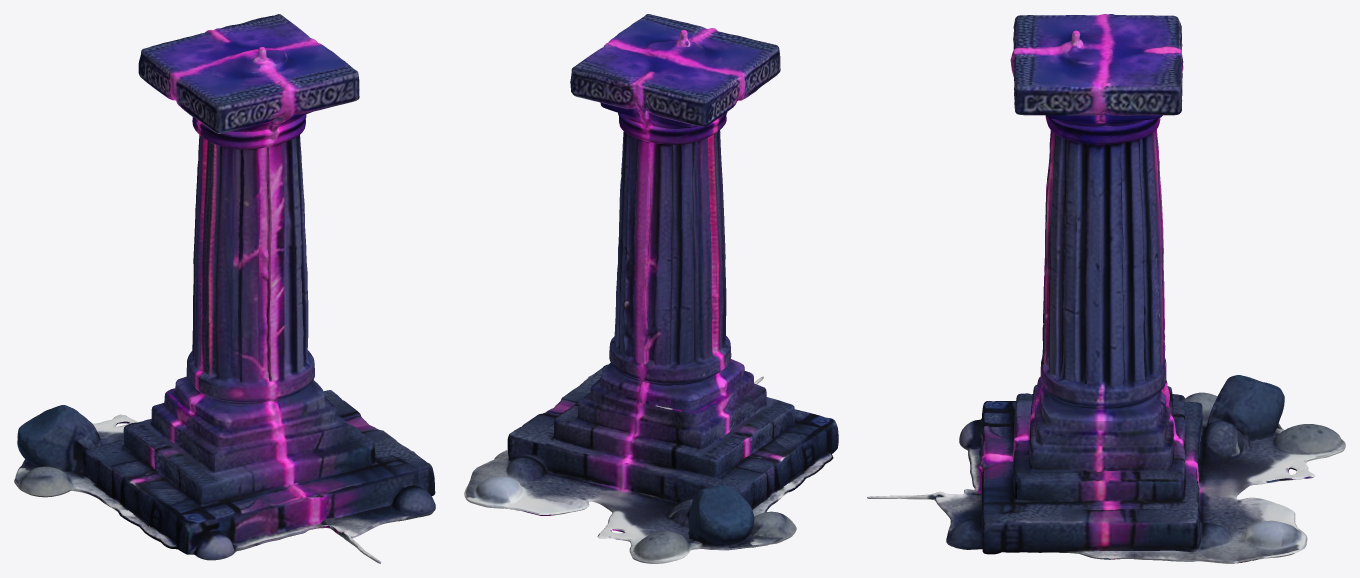
File: support-column-generated-2026-05-17T18-45-11-443Z.high.glb
3 renders of one model, left to right at view 1: azimuth 30°, elevation 25°; view 2: azimuth 150°, elevation 25°; view 3: azimuth 270°, elevation 25°, orthographic. The views are drawn at different scales.
Parts seen in each view (by area): view 1: temp_mesh.ply; view 2: temp_mesh.ply; view 3: temp_mesh.ply.
Boxes of the visible parts, x1,y1,x2,y2 form: temp_mesh.ply: (14,14,435,563); temp_mesh.ply: (464,14,838,563); temp_mesh.ply: (867,14,1345,563).
Size of the model in its own units: 1.5 by 1.97 by 1.86.
Materials: 1 (1 with a texture image).
